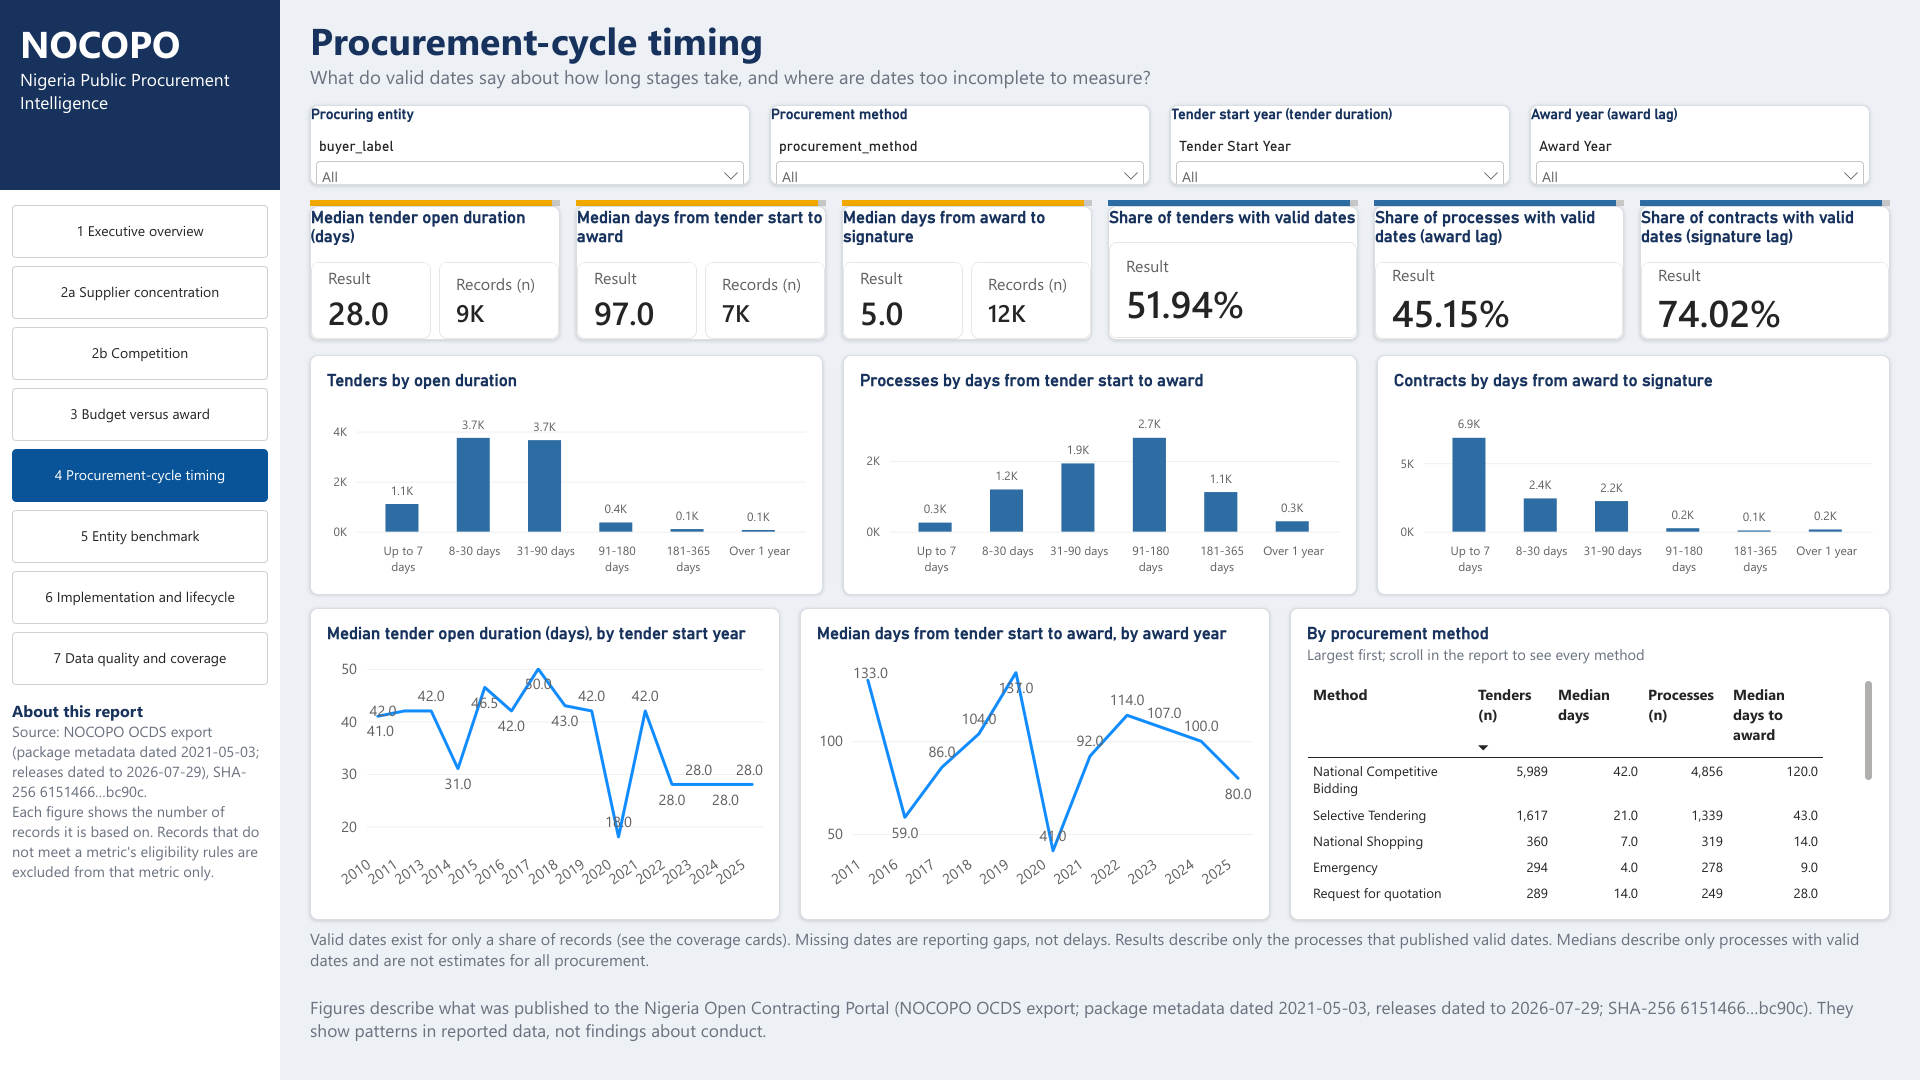

The page's visual inventory and layout, read from the dashboard file:
{"tool":"powerbi","page":{"name":"4 Procurement-cycle timing","canvas":[1920,1080],"ordinal":4},"visuals":[{"type":"textbox","box":[0,0,280,190],"z":0},{"type":"textbox","box":[0,190,280,890],"z":1},{"type":"textbox","box":[20,18,250,150],"z":2},{"type":"pageNavigator","box":[12,205,256,480],"z":3},{"type":"textbox","box":[12,700,256,360],"z":4},{"type":"textbox","box":[310,15,1580,80],"z":5},{"type":"textbox","box":[310,995,1580,70],"z":6},{"type":"slicer","title":"Procuring entity","fields":{"Values":["DimBuyer.buyer_label"]},"box":[310,105,440,80],"z":7},{"type":"slicer","title":"Procurement method","fields":{"Values":["DimMethod.procurement_method"]},"box":[770,105,380,80],"z":8},{"type":"slicer","title":"Tender start year (tender duration)","fields":{"Values":["TenderDuration.Tender Start Year"]},"box":[1170,105,340,80],"z":9},{"type":"slicer","title":"Award year (award lag)","fields":{"Values":["AwardLag.Award Year"]},"box":[1530,105,340,80],"z":10},{"type":"textbox","box":[310,200,250,6],"z":11},{"type":"cardVisual","title":"Median tender open duration (days)","fields":{"Data":["_Measures.Median Tender Duration (days)","_Measures.Tender Duration n"]},"box":[310,206,250,134],"z":12},{"type":"textbox","box":[576,200,250,6],"z":13},{"type":"cardVisual","title":"Median days from tender start to award","fields":{"Data":["_Measures.Median Award Lag (days)","_Measures.Award Lag n"]},"box":[576,206,250,134],"z":14},{"type":"textbox","box":[842,200,250,6],"z":15},{"type":"cardVisual","title":"Median days from award to signature","fields":{"Data":["_Measures.Median Signature Lag (days)","_Measures.Signature Lag n"]},"box":[842,206,250,134],"z":16},{"type":"textbox","box":[1108,200,250,6],"z":17},{"type":"cardVisual","title":"Share of tenders with valid dates","fields":{"Data":["_Measures.Coverage M-E01"]},"box":[1108,206,250,134],"z":18},{"type":"textbox","box":[1374,200,250,6],"z":19},{"type":"cardVisual","title":"Share of processes with valid dates (award lag)","fields":{"Data":["_Measures.Coverage M-E02"]},"box":[1374,206,250,134],"z":20},{"type":"textbox","box":[1640,200,250,6],"z":21},{"type":"cardVisual","title":"Share of contracts with valid dates (signature lag)","fields":{"Data":["_Measures.Coverage Signature Lag"]},"box":[1640,206,250,134],"z":22},{"type":"clusteredColumnChart","title":"Tenders by open duration","fields":{"Category":["TenderDuration.Duration Band"],"Y":["_Measures.Tender Duration n"]},"box":[310,355,513.3,240],"z":23},{"type":"clusteredColumnChart","title":"Processes by days from tender start to award","fields":{"Category":["AwardLag.Duration Band"],"Y":["_Measures.Award Lag n"]},"box":[843.3,355,513.3,240],"z":24},{"type":"clusteredColumnChart","title":"Contracts by days from award to signature","fields":{"Category":["SignatureLag.Duration Band"],"Y":["_Measures.Signature Lag n"]},"box":[1376.7,355,513.3,240],"z":25},{"type":"lineChart","title":"Median tender open duration (days), by tender start year","fields":{"Category":["TenderDuration.Tender Start Year"],"Y":["_Measures.Median Tender Duration (days)"]},"box":[310,608,470,312],"z":26},{"type":"lineChart","title":"Median days from tender start to award, by award year","fields":{"Category":["AwardLag.Award Year"],"Y":["_Measures.Median Award Lag (days)"]},"box":[800,608,470,312],"z":27},{"type":"tableEx","title":"By procurement method","fields":{"Values":["DimMethod.procurement_method","_Measures.Tender Duration n","_Measures.Median Tender Duration (days)","_Measures.Award Lag n","_Measures.Median Award Lag (days)"]},"box":[1290,608,600,312],"z":28},{"type":"textbox","box":[310,928,1580,62],"z":29}]}

Visuals, with their boxes in screenshot pixels (x1, y1, x2, y2), scaled from the page's 1920x1080 canvas onto the 1920x1080 screenshot:
textbox: (0, 0, 280, 190)
textbox: (0, 190, 280, 1079)
textbox: (20, 18, 270, 168)
pageNavigator: (12, 205, 268, 685)
textbox: (12, 700, 268, 1060)
textbox: (310, 15, 1890, 95)
textbox: (310, 995, 1890, 1065)
"Procuring entity" slicer: (310, 105, 750, 185)
"Procurement method" slicer: (770, 105, 1150, 185)
"Tender start year (tender duration)" slicer: (1170, 105, 1510, 185)
"Award year (award lag)" slicer: (1530, 105, 1870, 185)
textbox: (310, 200, 560, 206)
"Median tender open duration (days)" cardVisual: (310, 206, 560, 340)
textbox: (576, 200, 826, 206)
"Median days from tender start to award" cardVisual: (576, 206, 826, 340)
textbox: (842, 200, 1092, 206)
"Median days from award to signature" cardVisual: (842, 206, 1092, 340)
textbox: (1108, 200, 1358, 206)
"Share of tenders with valid dates" cardVisual: (1108, 206, 1358, 340)
textbox: (1374, 200, 1624, 206)
"Share of processes with valid dates (award lag)" cardVisual: (1374, 206, 1624, 340)
textbox: (1640, 200, 1890, 206)
"Share of contracts with valid dates (signature lag)" cardVisual: (1640, 206, 1890, 340)
"Tenders by open duration" clusteredColumnChart: (310, 355, 823, 595)
"Processes by days from tender start to award" clusteredColumnChart: (843, 355, 1357, 595)
"Contracts by days from award to signature" clusteredColumnChart: (1377, 355, 1890, 595)
"Median tender open duration (days), by tender start year" lineChart: (310, 608, 780, 920)
"Median days from tender start to award, by award year" lineChart: (800, 608, 1270, 920)
"By procurement method" tableEx: (1290, 608, 1890, 920)
textbox: (310, 928, 1890, 990)
